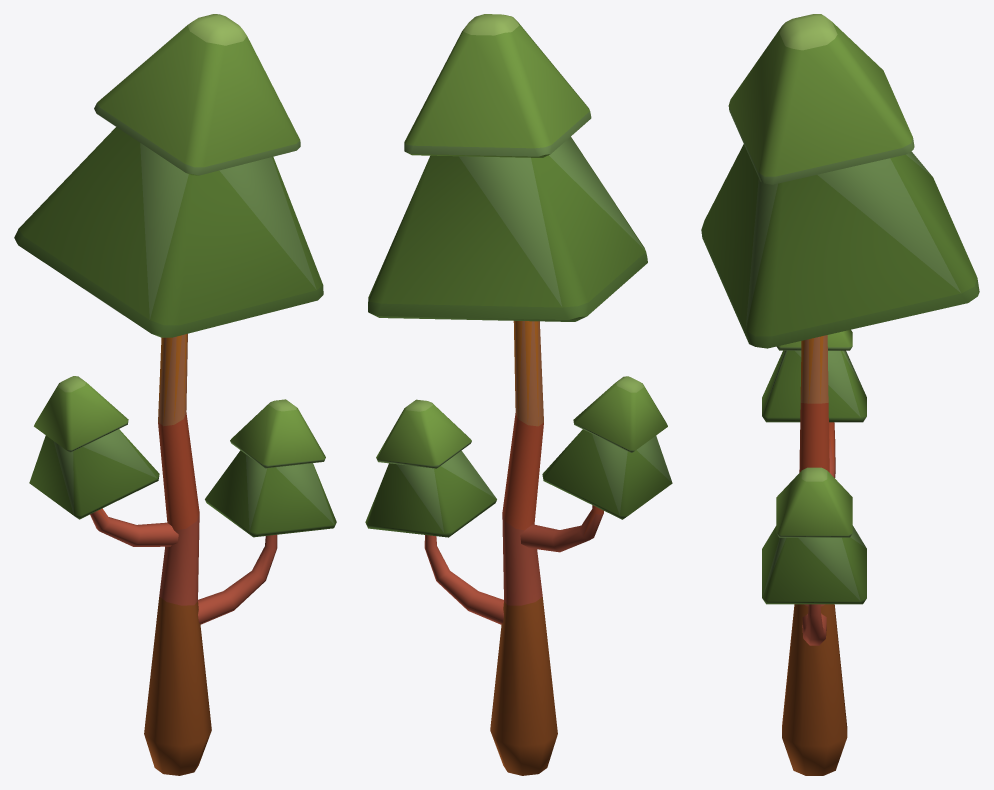
The model's file is itch_kaykit_forest_tree_4_b_color1.glb.
The picture shows the model from 3 angles, left to right: view 1: azimuth 30°, elevation 25°; view 2: azimuth 150°, elevation 25°; view 3: azimuth 270°, elevation 25°; orthographic projection. The views are drawn at different scales.
Parts seen in each view (by area): view 1: Tree_4_B_Color1; view 2: Tree_4_B_Color1; view 3: Tree_4_B_Color1.
Boxes of the visible parts, x1,y1,x2,y2 form: Tree_4_B_Color1: (14, 14, 336, 775); Tree_4_B_Color1: (365, 14, 672, 775); Tree_4_B_Color1: (701, 14, 979, 775).
Bounding box in the file's own units: 1.19 × 3.2 × 1.05.
